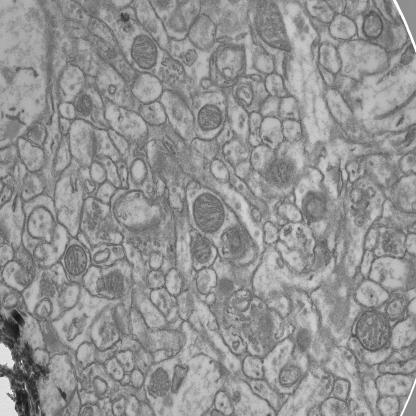mitochondria: (253, 0, 294, 56), (354, 308, 392, 352), (192, 191, 225, 233), (131, 33, 158, 70), (95, 268, 124, 299), (64, 244, 88, 277), (362, 11, 386, 42), (147, 366, 170, 398), (197, 103, 223, 131), (190, 233, 214, 263), (74, 90, 94, 117)
